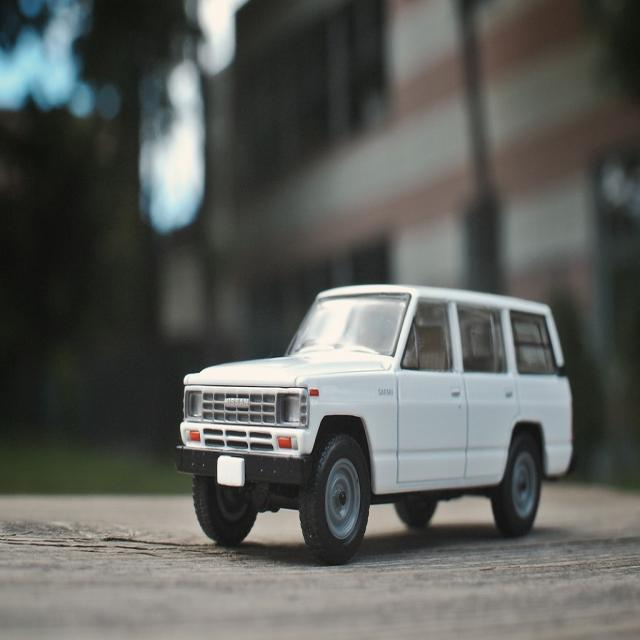car: (169, 277, 573, 533)
